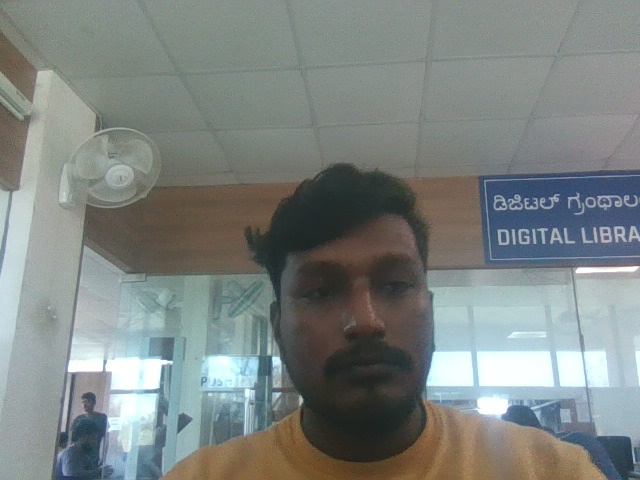real: (258, 149, 460, 436)
